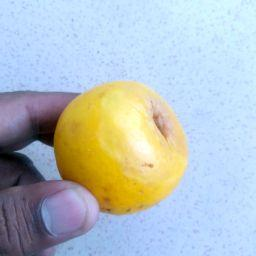Unripe: (55, 79, 188, 212)
